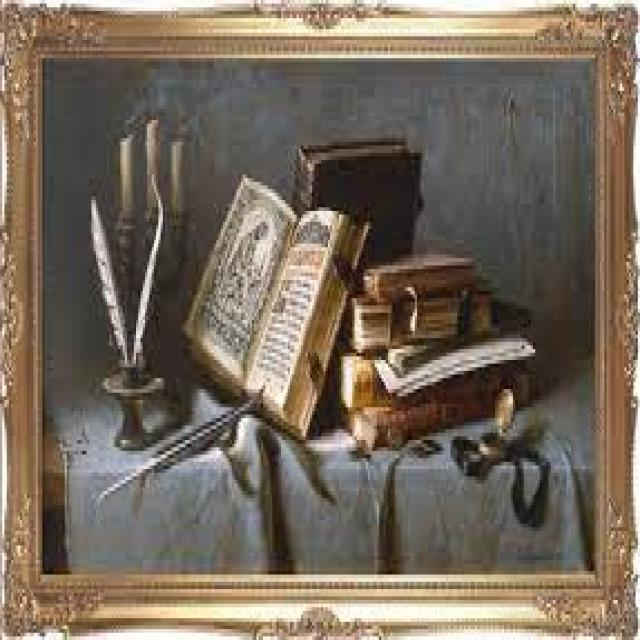book: (184, 156, 359, 460)
